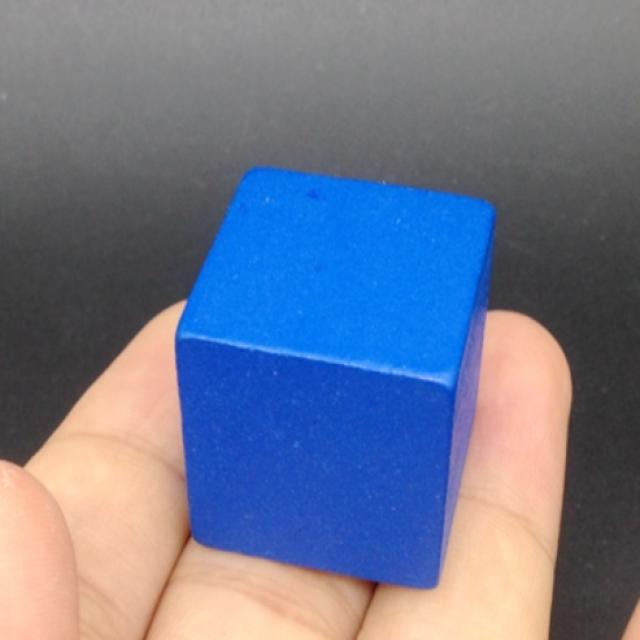bluecube: (174, 168, 497, 592)
